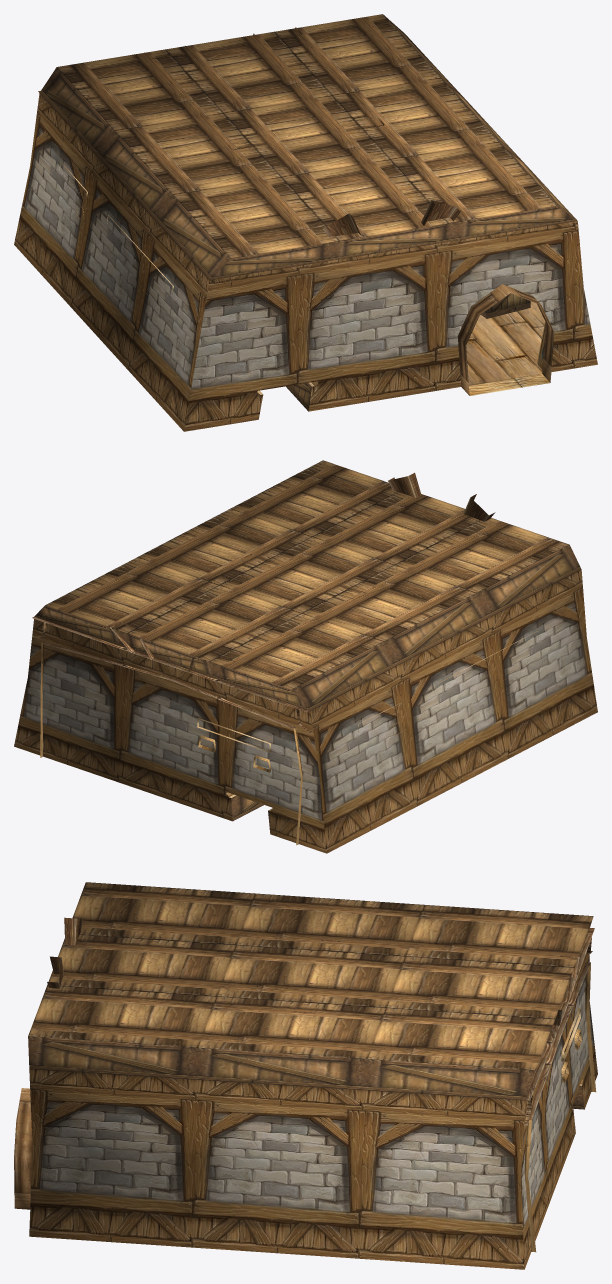
File: stormwind_234.fbx
3 views of the same model, one above another, from view 1: azimuth 30°, elevation 25°; view 2: azimuth 150°, elevation 25°; view 3: azimuth 270°, elevation 25° (orthographic). The views are drawn at different scales.
Visible parts, largest first — view 1: stormwind_234_87, stormwind_234_55, stormwind_234_56, stormwind_234_51, stormwind_234_53, stormwind_234_49, stormwind_234_59; view 2: stormwind_234_87, stormwind_234_55, stormwind_234_56, stormwind_234_53, stormwind_234_54; view 3: stormwind_234_87, stormwind_234_55, stormwind_234_56, stormwind_234_53, stormwind_234_49, stormwind_234_54.
Boxes of the visible parts, bbox=[...] form: stormwind_234_87: bbox=[14, 93, 597, 431]; stormwind_234_55: bbox=[57, 14, 556, 258]; stormwind_234_56: bbox=[39, 15, 577, 411]; stormwind_234_51: bbox=[466, 301, 544, 385]; stormwind_234_53: bbox=[38, 27, 549, 395]; stormwind_234_49: bbox=[457, 284, 554, 395]; stormwind_234_59: bbox=[481, 293, 530, 318]; stormwind_234_87: bbox=[14, 570, 597, 853]; stormwind_234_55: bbox=[45, 460, 569, 689]; stormwind_234_56: bbox=[34, 545, 581, 820]; stormwind_234_53: bbox=[32, 472, 535, 845]; stormwind_234_54: bbox=[197, 631, 538, 810]; stormwind_234_87: bbox=[29, 951, 597, 1269]; stormwind_234_55: bbox=[28, 882, 593, 1070]; stormwind_234_56: bbox=[28, 919, 592, 1109]; stormwind_234_53: bbox=[42, 917, 596, 1252]; stormwind_234_49: bbox=[14, 1088, 32, 1209]; stormwind_234_54: bbox=[561, 1007, 582, 1109].
Bounding box in the file's own units: 17.28 × 7.09 × 18.64.
